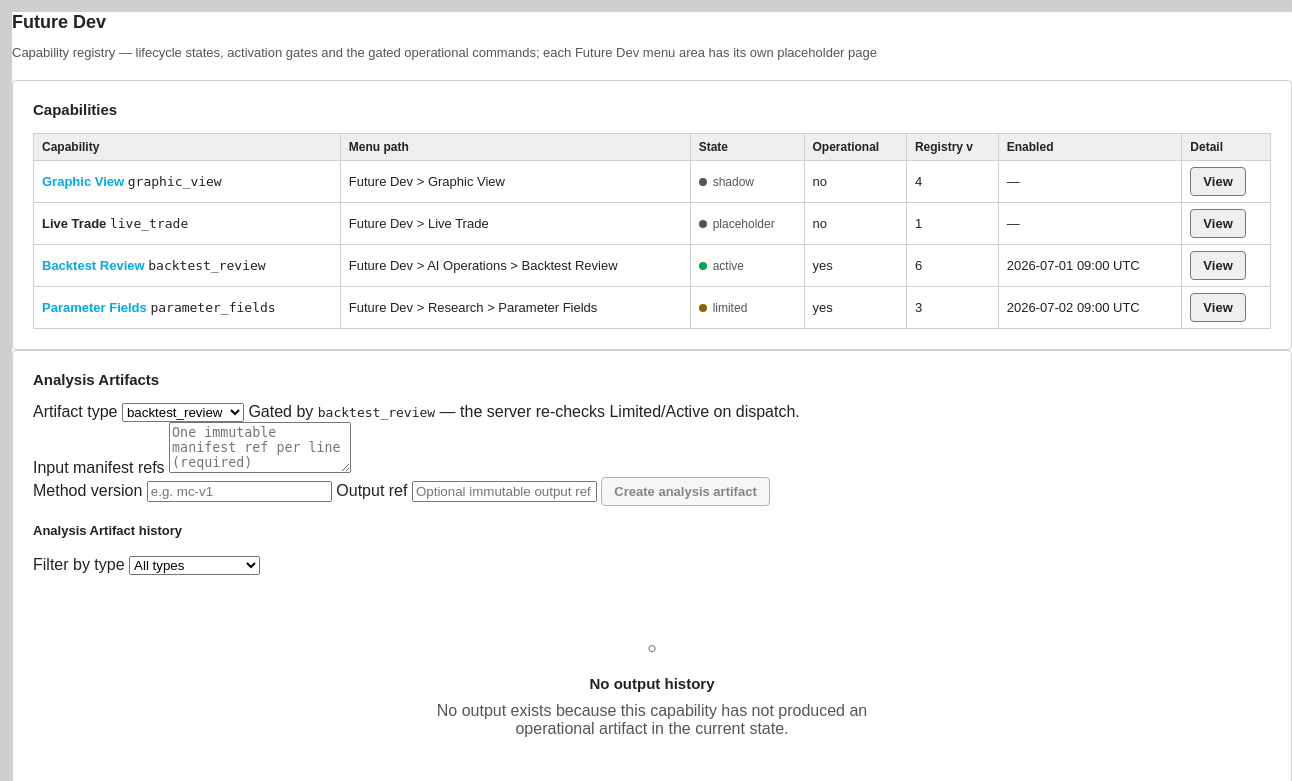
Test: Future Dev page › sends an edited gate checklist while preserving server-side note objects
The image size is (1292, 781).
Expected: the text "Live Trade" is shown, 42,216 -> 106,231
Click the button "View" in the row of "graphic_view" at (1218, 182), box 1190,167 -> 1246,196
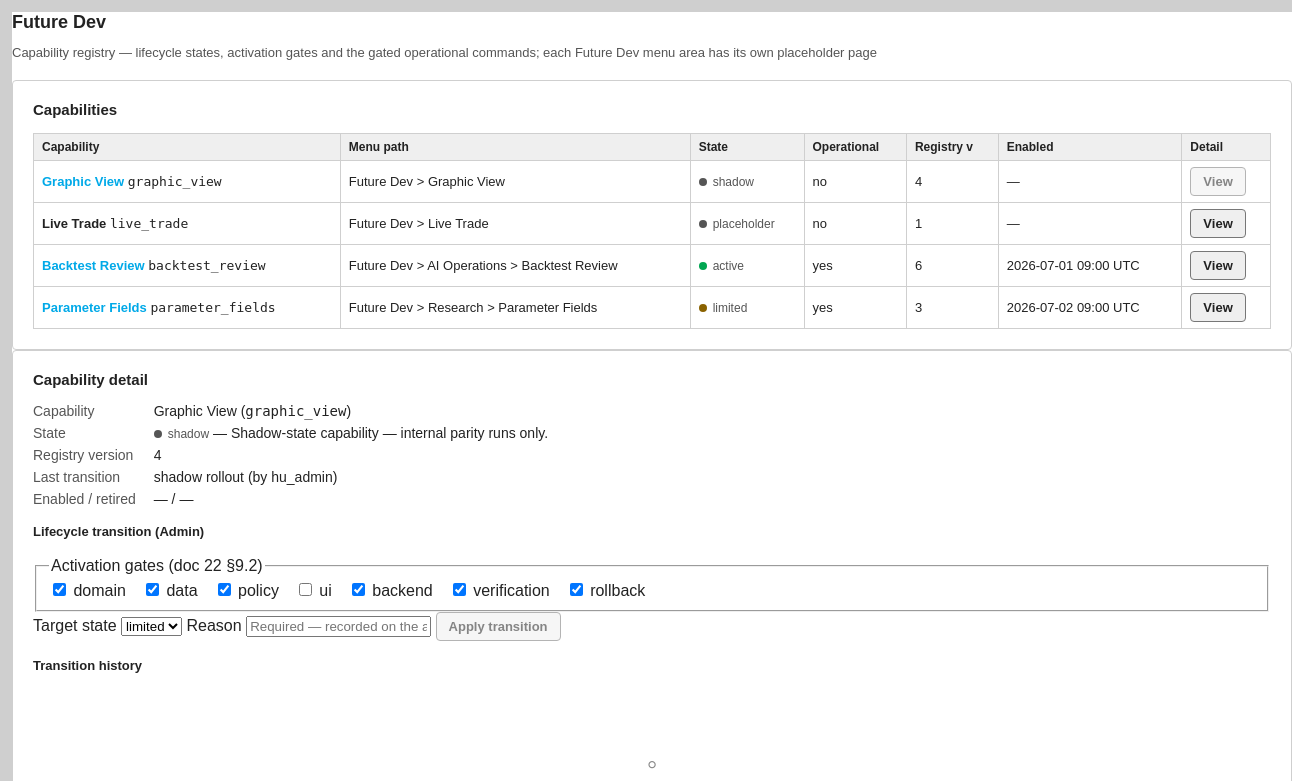
Expected: the text "shadow rollout (by hu_admin)" is shown, 154,469 -> 337,485
Click the checkbox labelled "ui" at (305, 590), box 299,583 -> 312,596
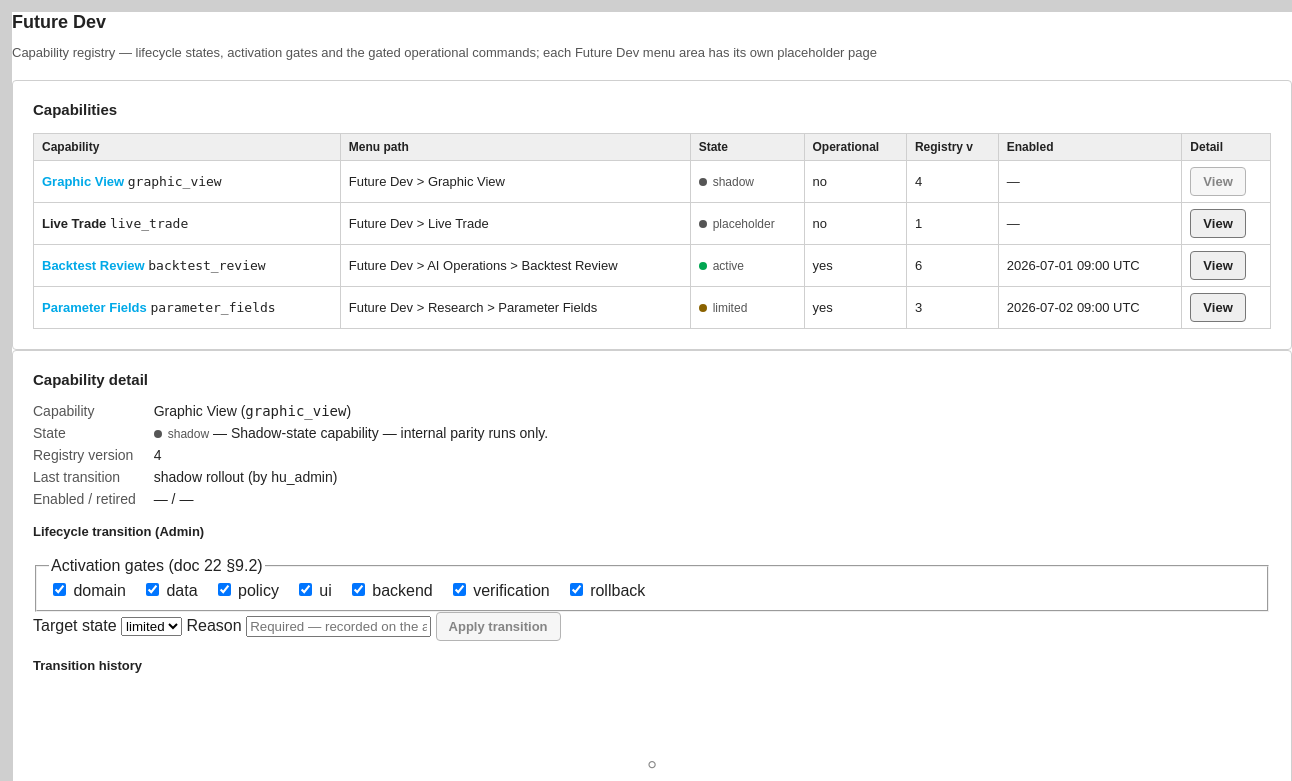
Type "ui gate complete" into the field named "Transition reason" at (339, 627), box 246,616 -> 431,637
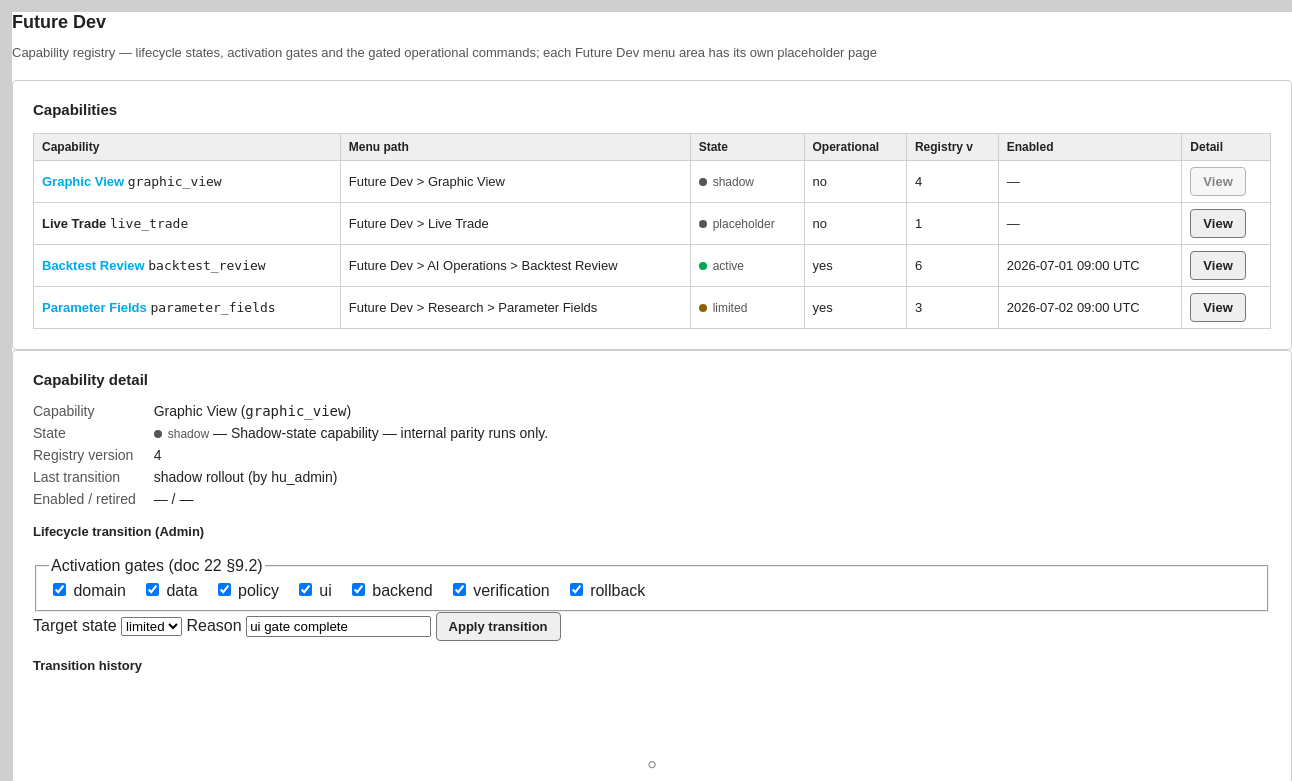
Click the button "Apply transition" at (498, 627), box 436,612 -> 561,641
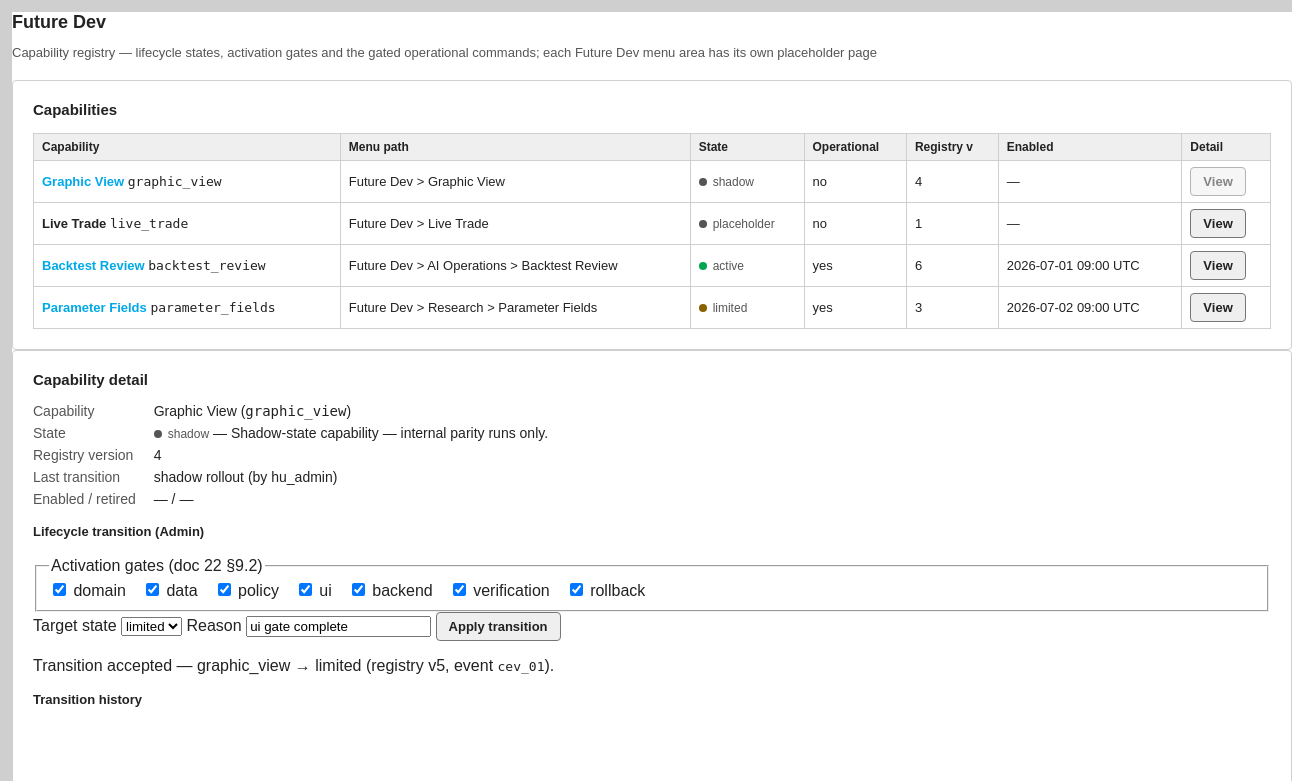
Expected: the text "Transition accepted" is shown, 33,657 -> 197,674
